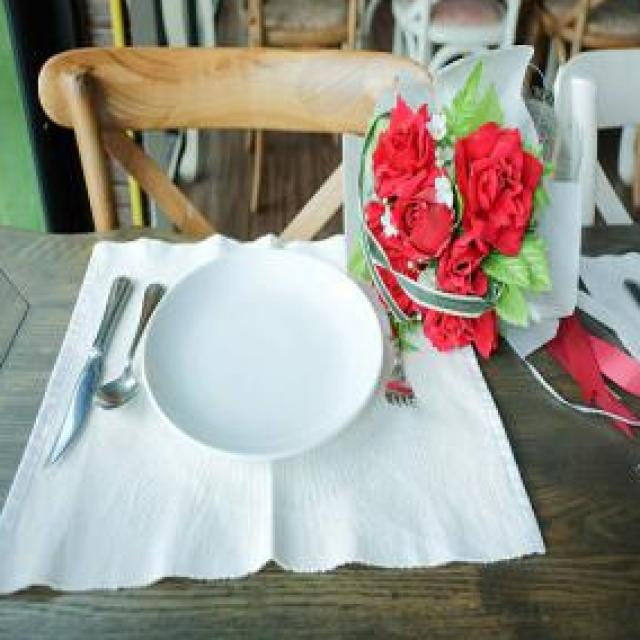knife: (43, 275, 134, 471)
